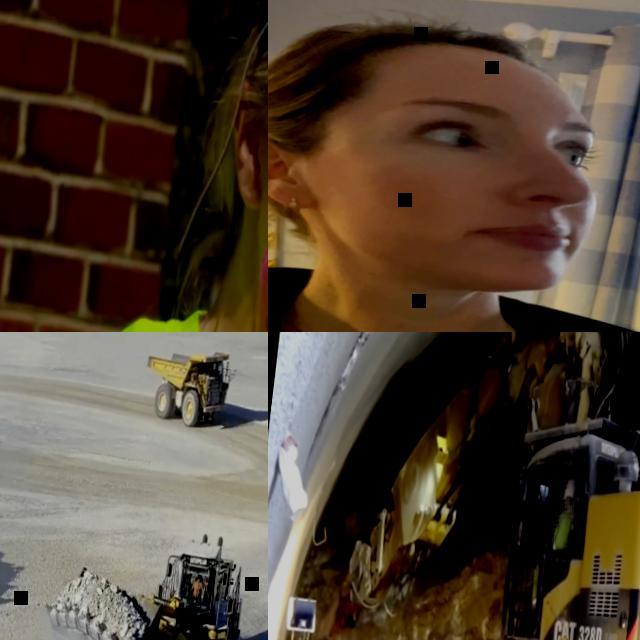helmet: (562, 477, 576, 501)
vest: (550, 508, 573, 552)
